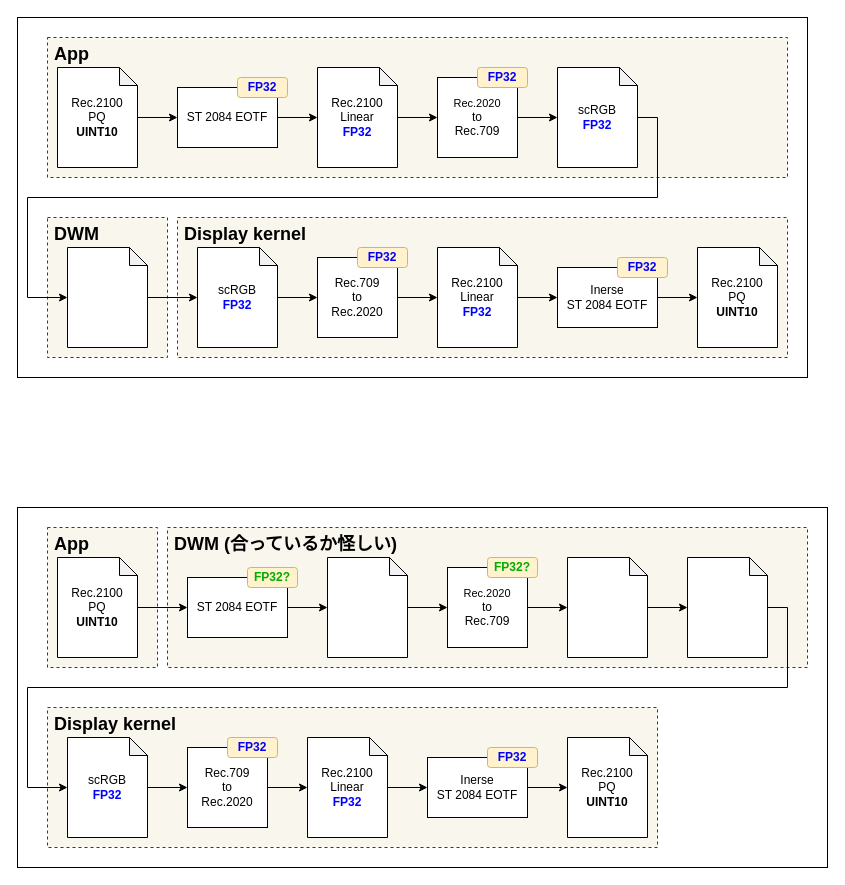
The diagram is 845 pixels wide and 885 high, and some of its shapes have lost their labels. The shapes that lost their labels are listed below. From the top down, each one's centre as x and y in pixels, then its label:
At point (107, 297): "scRGB FP16".
At point (367, 607): "Rec.2100 Linear FP32?".
At point (607, 607): "scRGB FP32?".
At point (727, 607): "scRGB FP16?".
